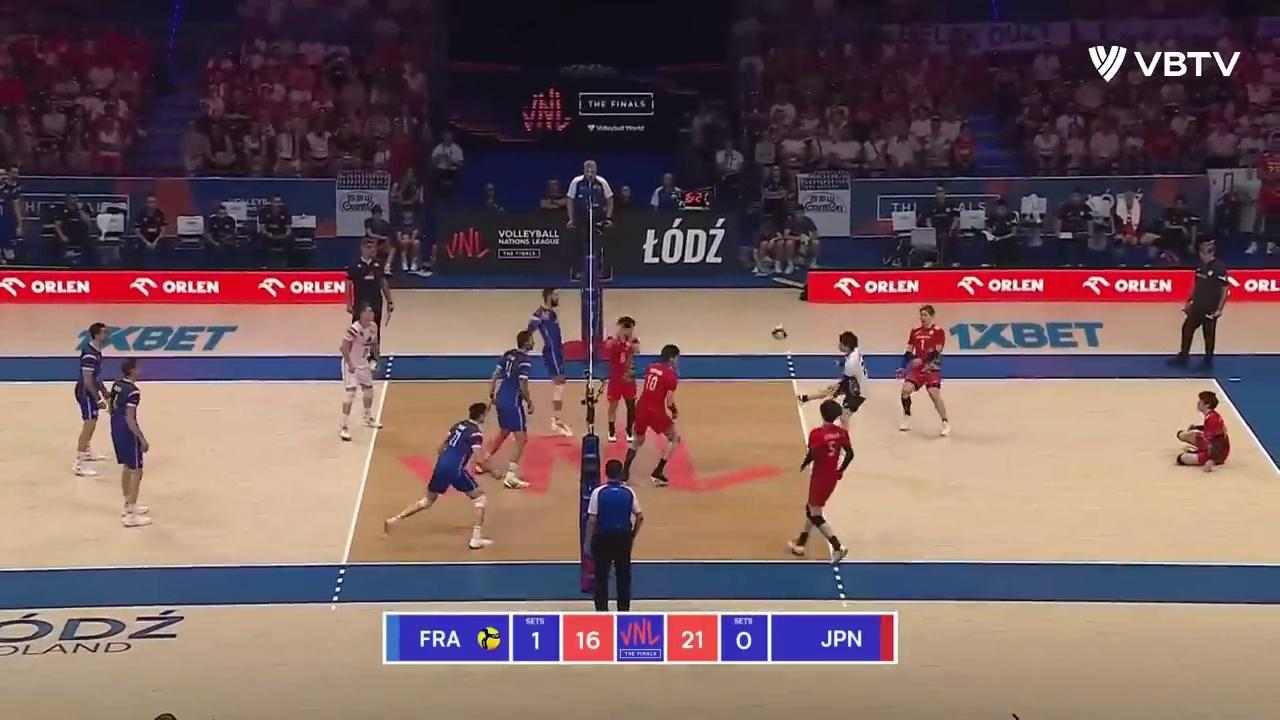ball: (772, 322, 788, 340)
